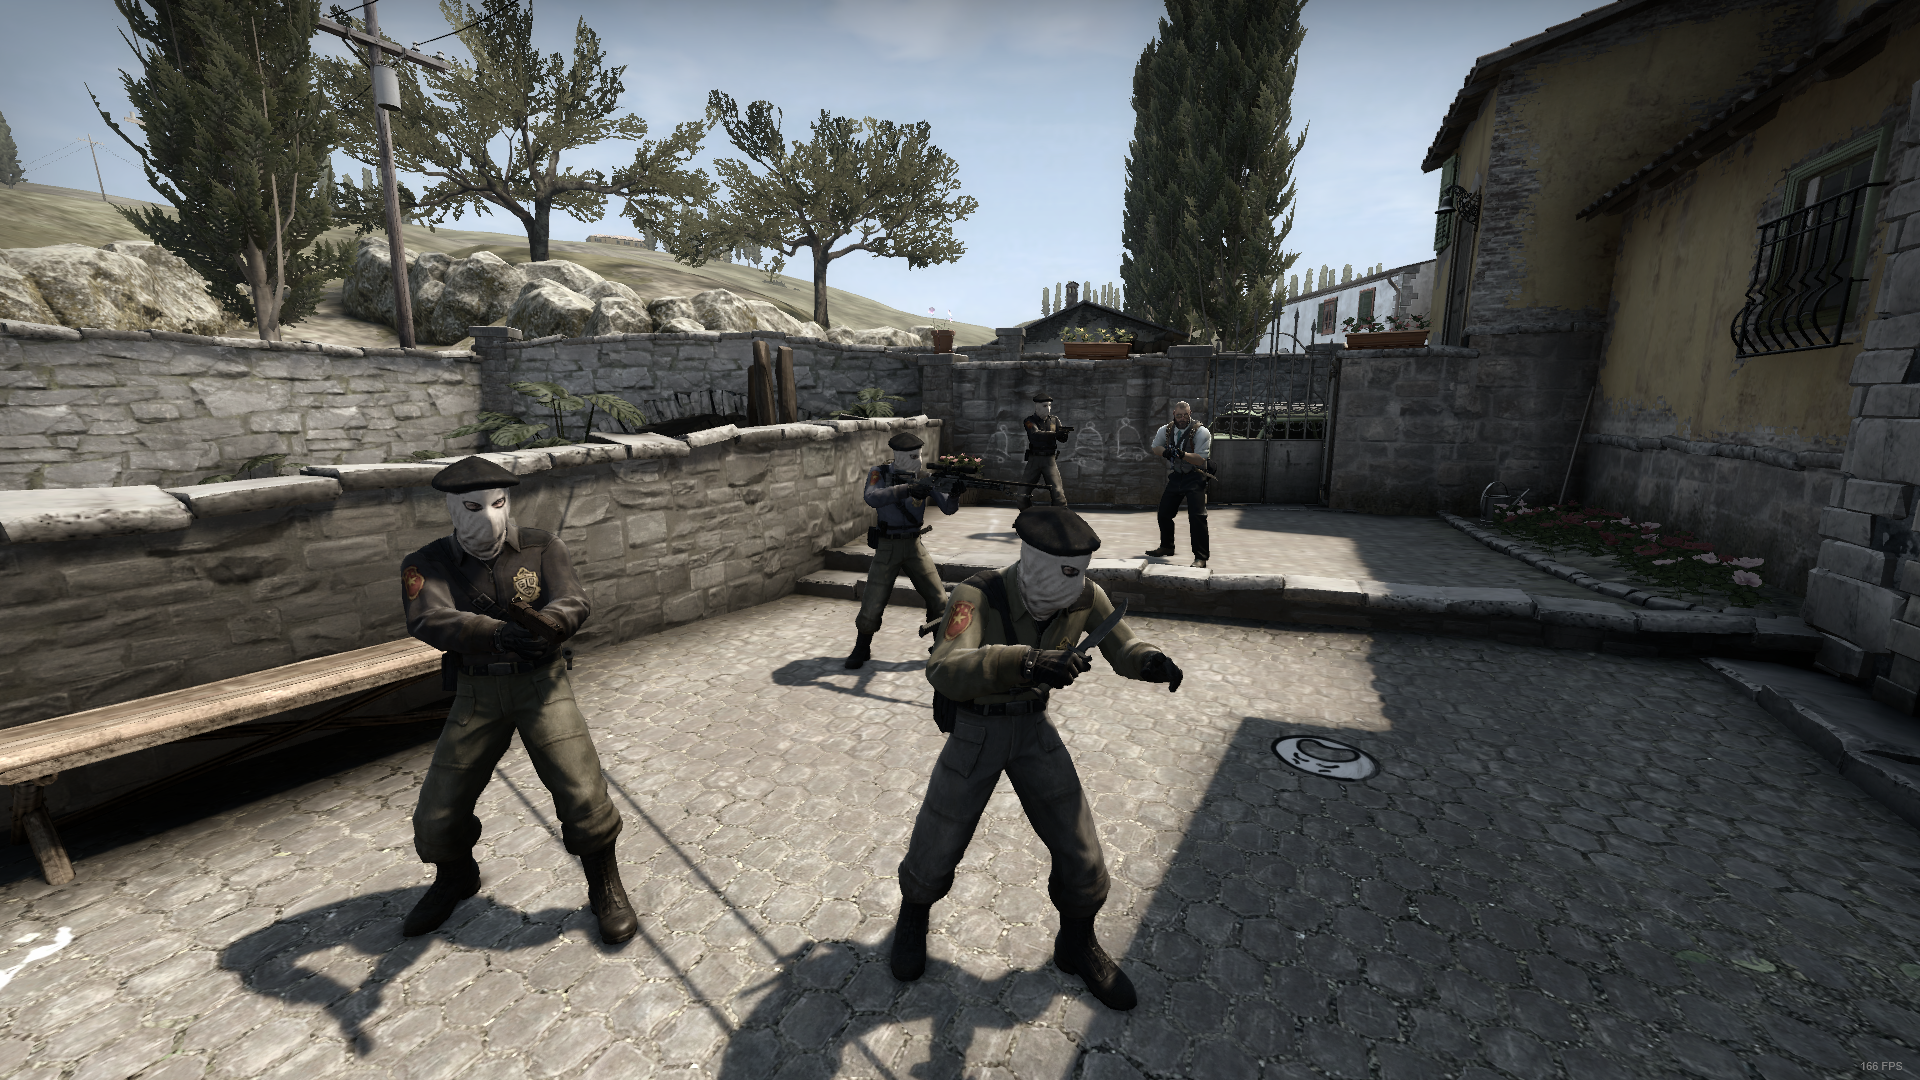t: (357, 418, 651, 975), (881, 502, 1158, 1026), (851, 425, 960, 680), (1007, 390, 1083, 543)
